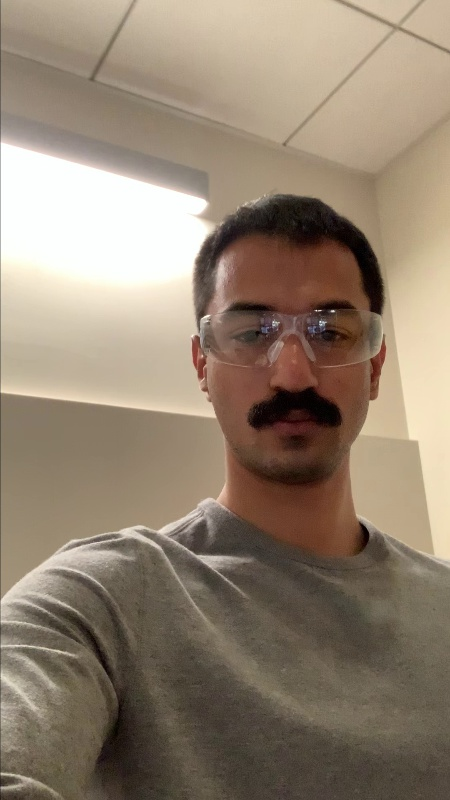glasses: (201, 298, 387, 372)
